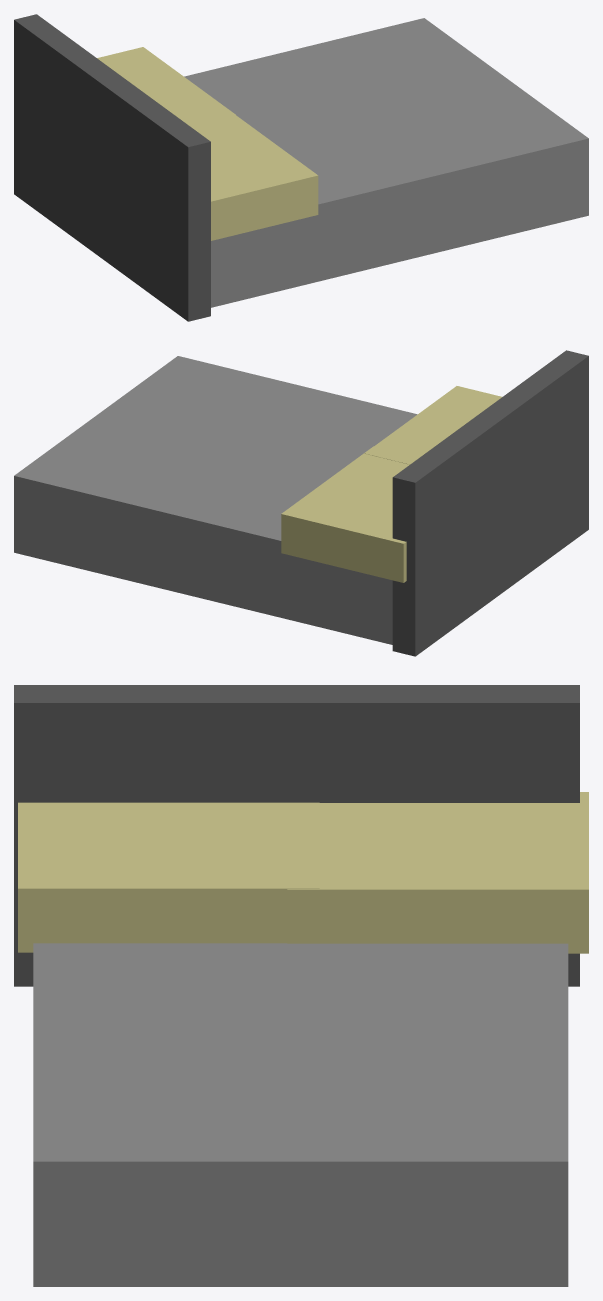
Rendered from Bed.fbx.
3 renders of one model, top to bottom at view 1: azimuth 30°, elevation 25°; view 2: azimuth 150°, elevation 25°; view 3: azimuth 270°, elevation 25°, orthographic. The views are drawn at different scales.
Parts seen in each view (by area): view 1: Cube_2, Cube, Cube_1_2, Cube_1; view 2: Cube_2, Cube, Cube_1, Cube_1_2; view 3: Cube_2, Cube, Cube_1_2, Cube_1.
Boxes of the visible parts, box(x1,y1,x2,y2) form: Cube_2: box(184, 18, 588, 307); Cube: box(14, 14, 210, 321); Cube_1_2: box(180, 107, 318, 240); Cube_1: box(97, 47, 235, 118); Cube_2: box(14, 356, 417, 644); Cube: box(392, 350, 588, 656); Cube_1: box(281, 446, 409, 582); Cube_1_2: box(364, 386, 501, 464); Cube_2: box(33, 943, 568, 1286); Cube: box(14, 685, 579, 986); Cube_1_2: box(18, 802, 319, 952); Cube_1: box(287, 792, 588, 953).
Size of the model in its own units: 488 by 200 by 368.
